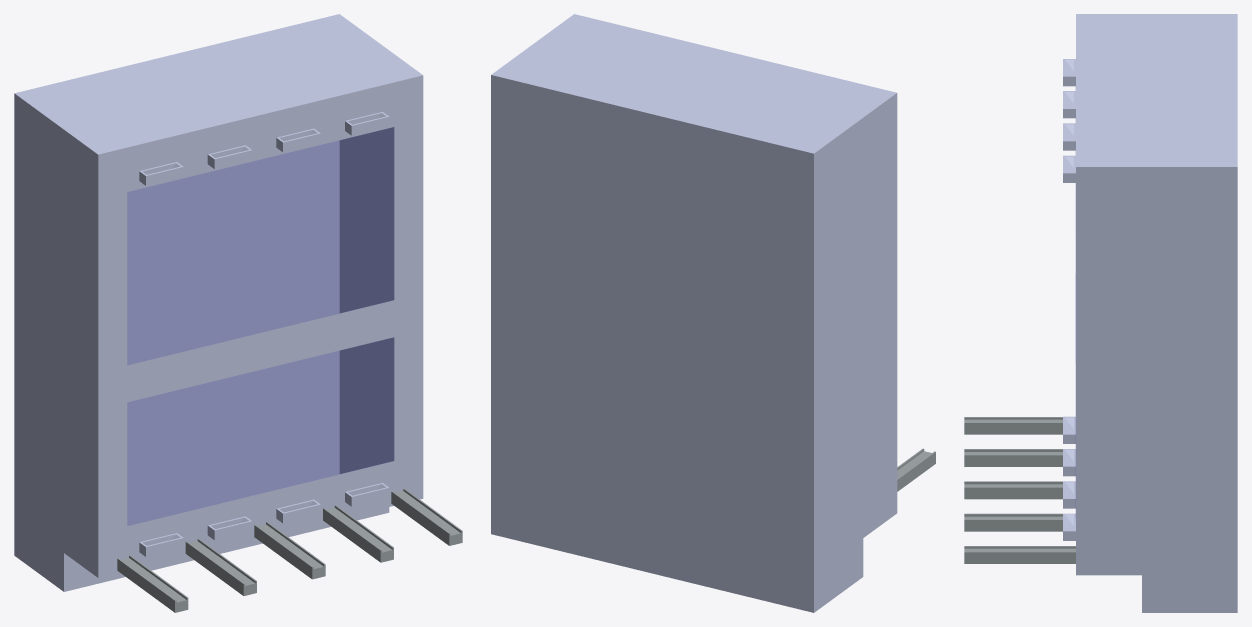
The model's file is asrs_new.dae.
3 renders of one model, left to right at view 1: azimuth 30°, elevation 25°; view 2: azimuth 150°, elevation 25°; view 3: azimuth 270°, elevation 25°, orthographic. The views are drawn at different scales.
Visible parts, largest first — view 1: ID2; view 2: ID2; view 3: ID2.
Part boxes in pixels (x1,y1,x2,y2): ID2: (14,14,462,612); ID2: (491,14,935,612); ID2: (964,14,1237,612).
Size of the model in its own units: 1.38 by 1.04 by 1.87.
